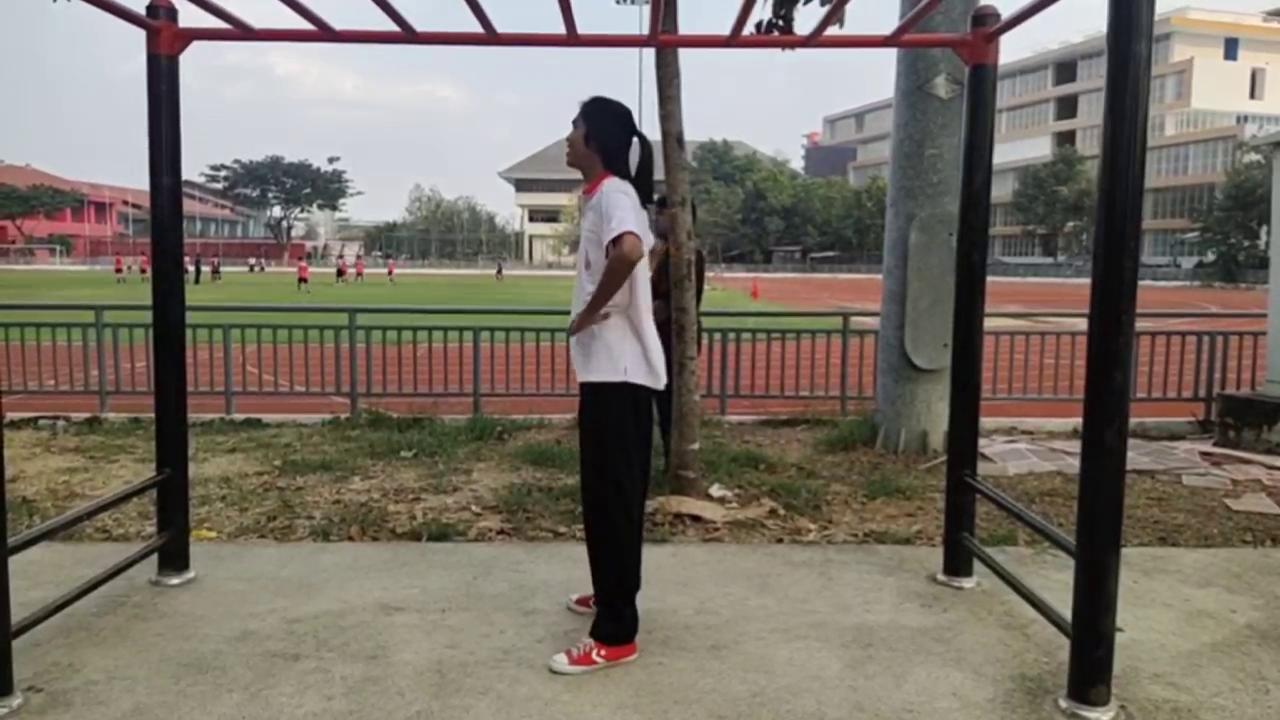squat up: (549, 99, 678, 676)
